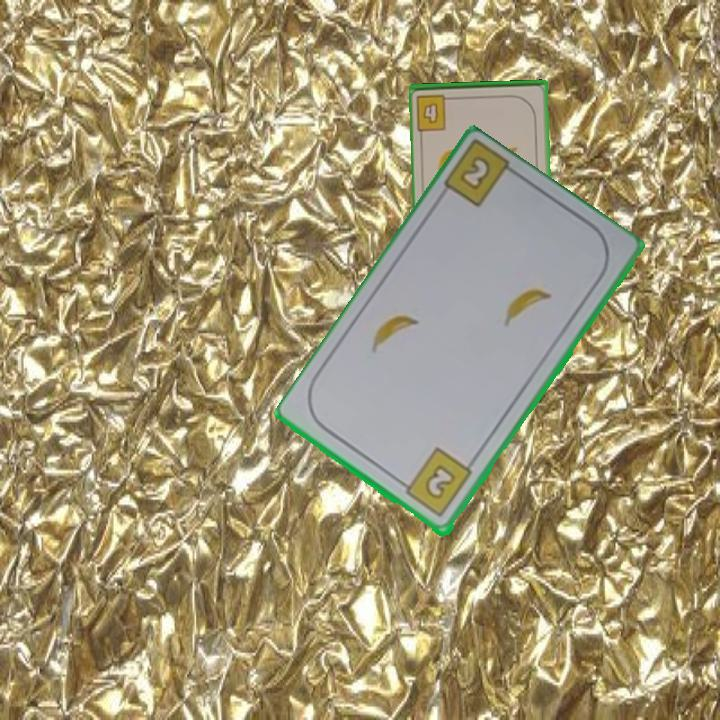2b: (396, 445, 475, 521), (456, 152, 494, 194)
4b: (413, 91, 458, 133)
